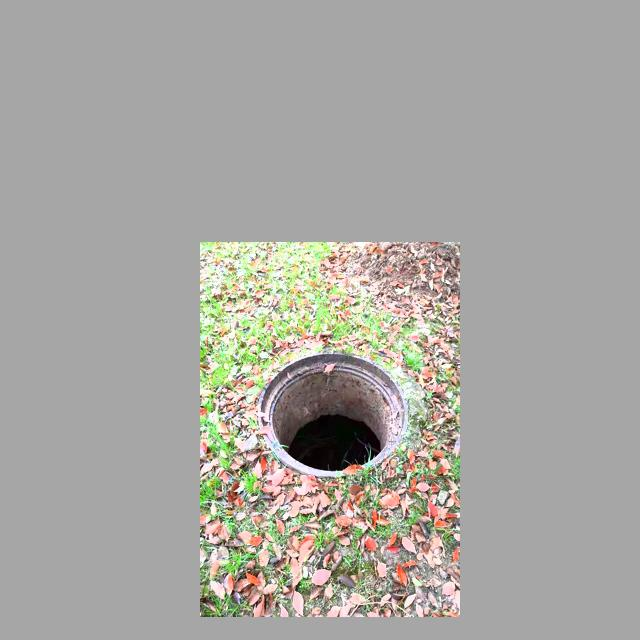lose: (258, 352, 408, 478)
